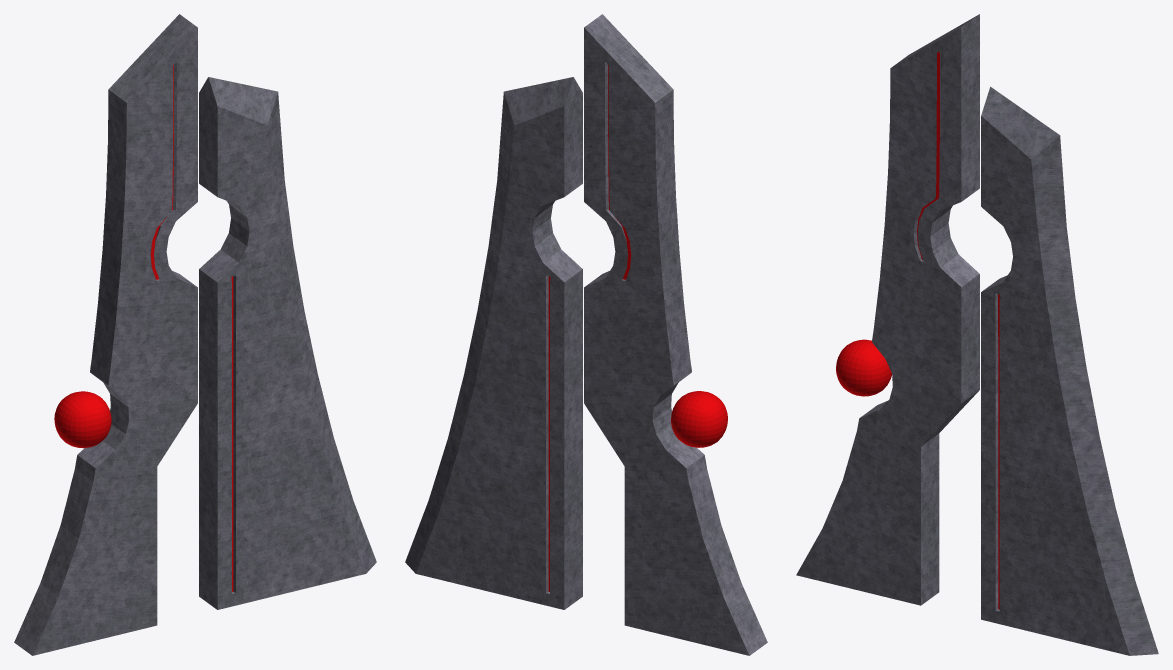
Rendered from assets.fbx.
3 views of the same model, side by side, from view 1: azimuth 30°, elevation 25°; view 2: azimuth 150°, elevation 25°; view 3: azimuth 330°, elevation 25° (orthographic).
Visible parts, largest first — view 1: Plane.001; view 2: Plane.001; view 3: Plane.001.
Part boxes in pixels (x1,y1,x2,y2): Plane.001: (14, 14, 376, 655); Plane.001: (405, 14, 767, 655); Plane.001: (796, 14, 1158, 655).
Size of the model in its own units: 632 by 1004 by 86.85.
